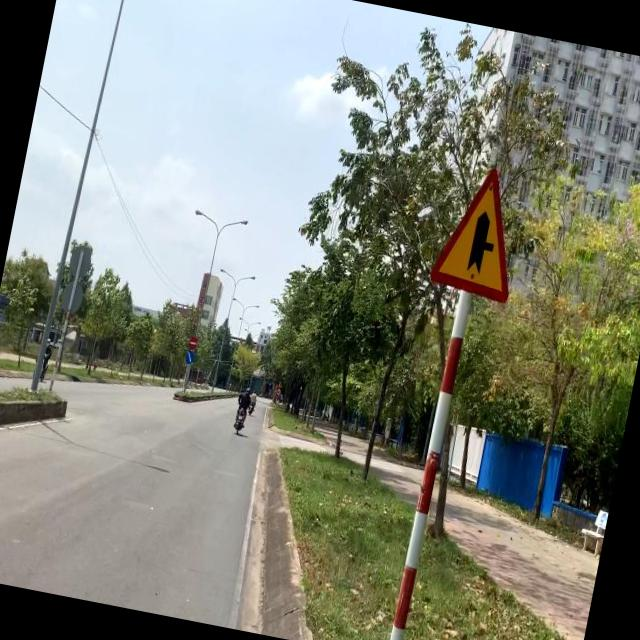P-102: (187, 334, 200, 352)
R-302a: (183, 350, 196, 366)
W-207b: (424, 151, 536, 311)
